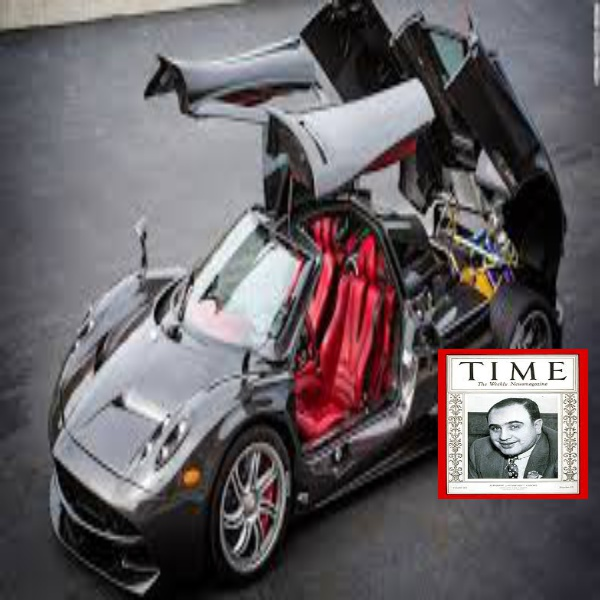time_cover: (429, 334, 594, 500)
